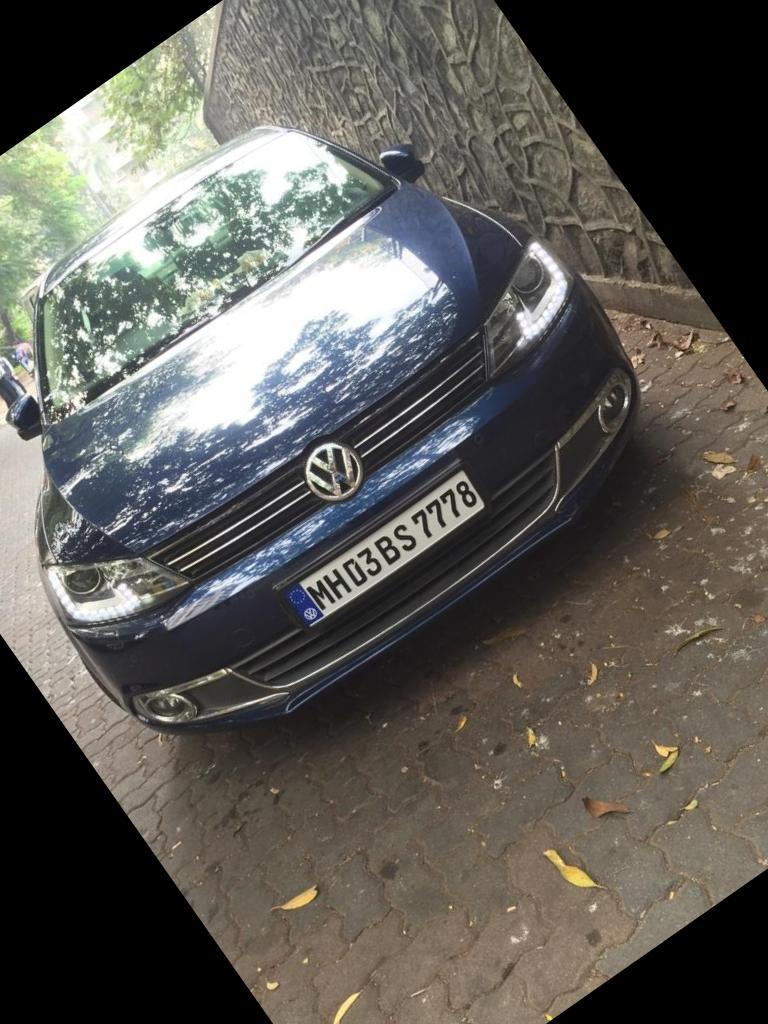plate: (270, 448, 509, 647)
